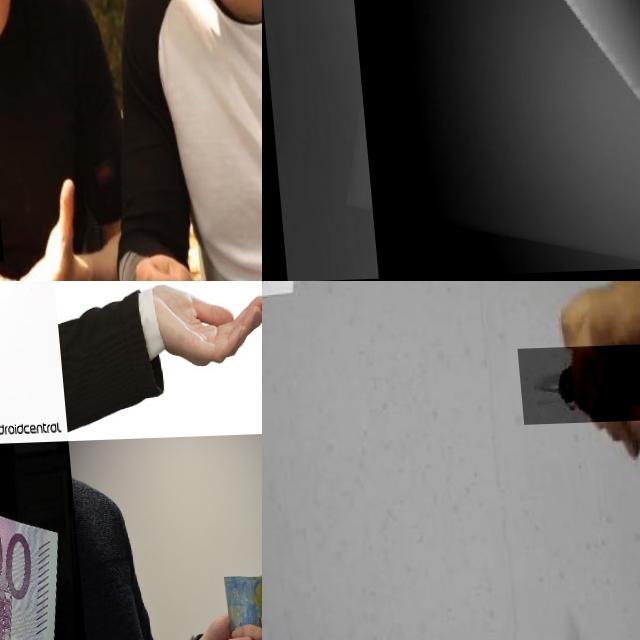-: (327, 0, 640, 281), (513, 347, 640, 427), (0, 82, 48, 265)
